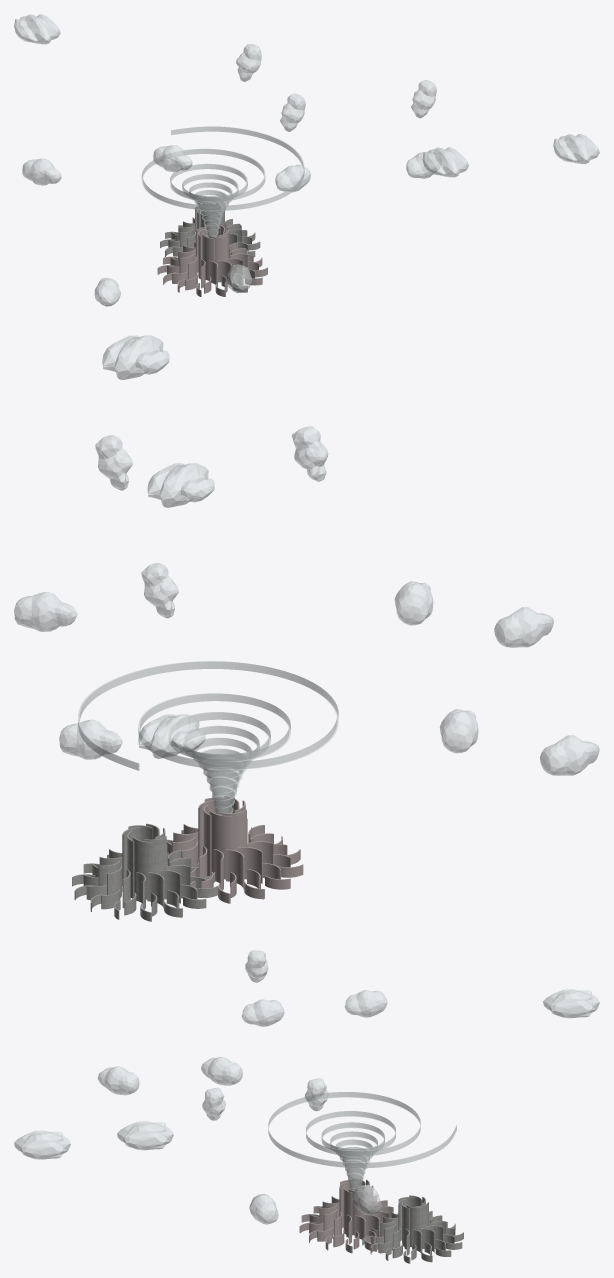
The model's file is SamuelStockli.gltf.
3 views of the same model, one above another, from view 1: azimuth 30°, elevation 25°; view 2: azimuth 150°, elevation 25°; view 3: azimuth 270°, elevation 25° (orthographic). The views are drawn at different scales.
Visible parts, largest first — view 1: Tornado, 3dmodel, Cloud_Cumulus_Med (×3), Cloud_Cumulus (3) (×2), Raum - Folgen VR Model V1, Cloud_Cumulus (×2), Cloud_Cumulus (4), Cloud_Cumulus_Med (2), Cloud_Cumulus_Med (1), Cloud_Cumulus (1), Cloud_Cumulus_Med (3); view 2: Tornado, 3dmodel, Raum - Folgen VR Model V1, Cloud_Cumulus_Med (×3), Cloud_Cumulus (3) (×2), Cloud_Cumulus (×2), Cloud_Cumulus (4), Cloud_Cumulus_Med (1), Cloud_Cumulus_Med (3), Cloud_Cumulus (1), Cloud_Cumulus_Med (2); view 3: Tornado, 3dmodel, Raum - Folgen VR Model V1, Cloud_Cumulus (3) (×2), Cloud_Cumulus_Med (×3), Cloud_Cumulus (4), Cloud_Cumulus (×2), Cloud_Cumulus_Med (2), Cloud_Cumulus_Med (3), Cloud_Cumulus_Med (1), Cloud_Cumulus (1).
Part boxes in pixels (x1,y1,x2,y2): Tornado: [141, 126, 304, 237]; 3dmodel: [157, 225, 267, 296]; Cloud_Cumulus_Med (×3): [153, 145, 441, 292]; Cloud_Cumulus (3) (×2): [14, 14, 599, 163]; Raum - Folgen VR Model V1: [160, 203, 260, 257]; Cloud_Cumulus (×2): [236, 44, 436, 118]; Cloud_Cumulus (4): [422, 147, 468, 177]; Cloud_Cumulus_Med (2): [22, 158, 61, 185]; Cloud_Cumulus_Med (1): [275, 164, 310, 192]; Cloud_Cumulus (1): [280, 93, 305, 131]; Cloud_Cumulus_Med (3): [94, 277, 120, 306]; Tornado: [78, 661, 338, 815]; 3dmodel: [166, 796, 303, 903]; Raum - Folgen VR Model V1: [72, 823, 217, 921]; Cloud_Cumulus_Med (×3): [14, 581, 553, 647]; Cloud_Cumulus (3) (×2): [102, 335, 205, 758]; Cloud_Cumulus (×2): [95, 426, 328, 490]; Cloud_Cumulus (4): [147, 463, 214, 507]; Cloud_Cumulus_Med (1): [59, 719, 122, 759]; Cloud_Cumulus_Med (3): [540, 735, 599, 775]; Cloud_Cumulus (1): [141, 563, 178, 618]; Cloud_Cumulus_Med (2): [440, 709, 478, 753]; Tornado: [268, 1092, 456, 1190]; 3dmodel: [299, 1179, 398, 1253]; Raum - Folgen VR Model V1: [362, 1195, 463, 1263]; Cloud_Cumulus (3) (×2): [14, 989, 599, 1159]; Cloud_Cumulus_Med (×3): [97, 999, 284, 1224]; Cloud_Cumulus (4): [117, 1121, 173, 1150]; Cloud_Cumulus (×2): [202, 950, 268, 1120]; Cloud_Cumulus_Med (2): [345, 990, 387, 1017]; Cloud_Cumulus_Med (3): [201, 1057, 242, 1085]; Cloud_Cumulus_Med (1): [352, 1184, 381, 1215]; Cloud_Cumulus (1): [305, 1078, 328, 1111].
Bounding box in the file's own units: 1.28 × 0.7892 × 1.53.
3 materials, 1 textured.
